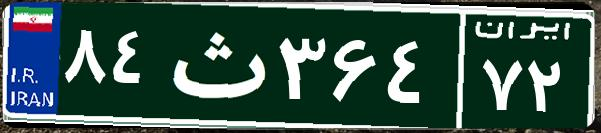2: (525, 38, 570, 115)
3: (273, 28, 330, 110)
4: (385, 28, 445, 110), (110, 28, 158, 105)
6: (330, 28, 385, 110)
7: (475, 38, 525, 113)
8: (57, 26, 110, 107)
ث: (158, 15, 273, 115)
